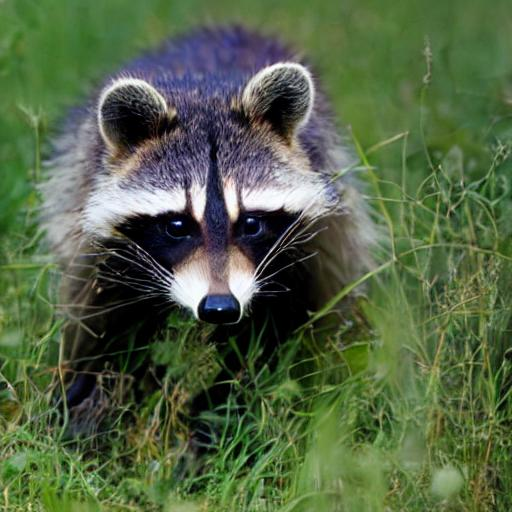raccoon: (30, 12, 403, 442)
